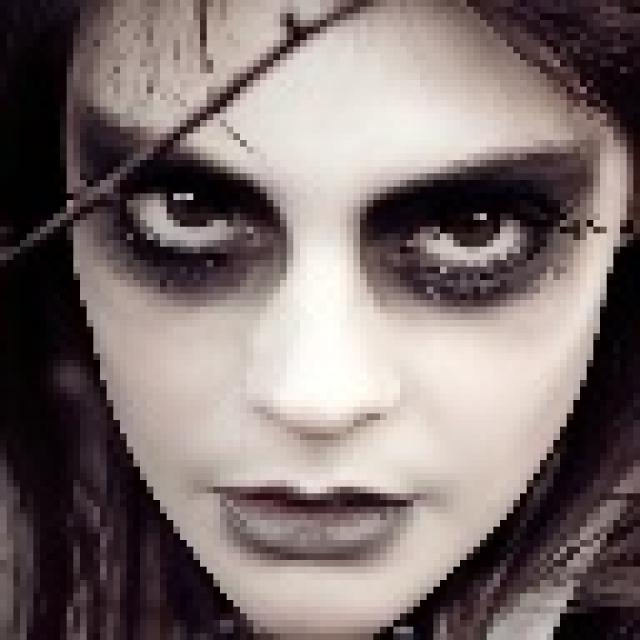angry: (59, 0, 596, 612)
